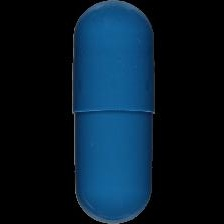0049-3970: (0, 0, 224, 224)
